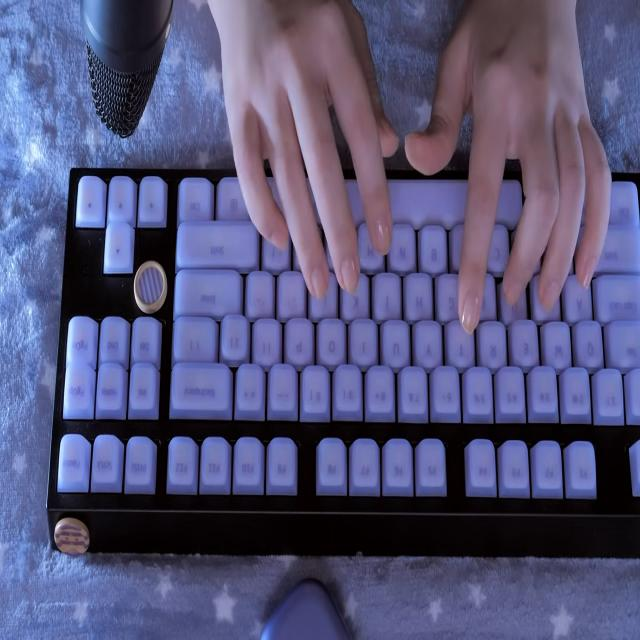keyboard-with-hands: (47, 169, 640, 519)
